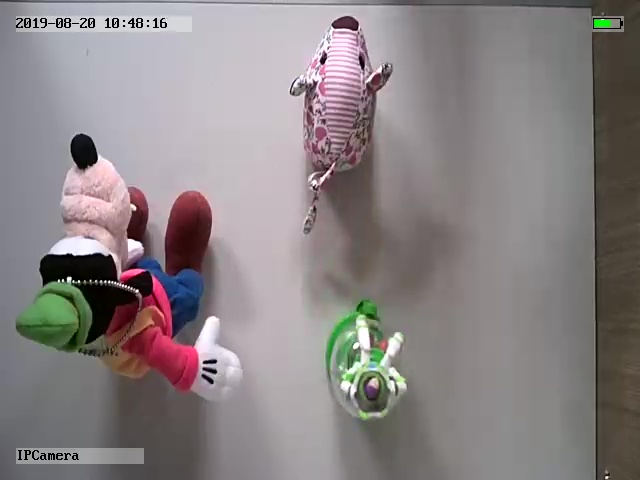buzz: (322, 299, 409, 423)
goofy: (13, 132, 246, 404)
pig: (283, 13, 396, 236)
